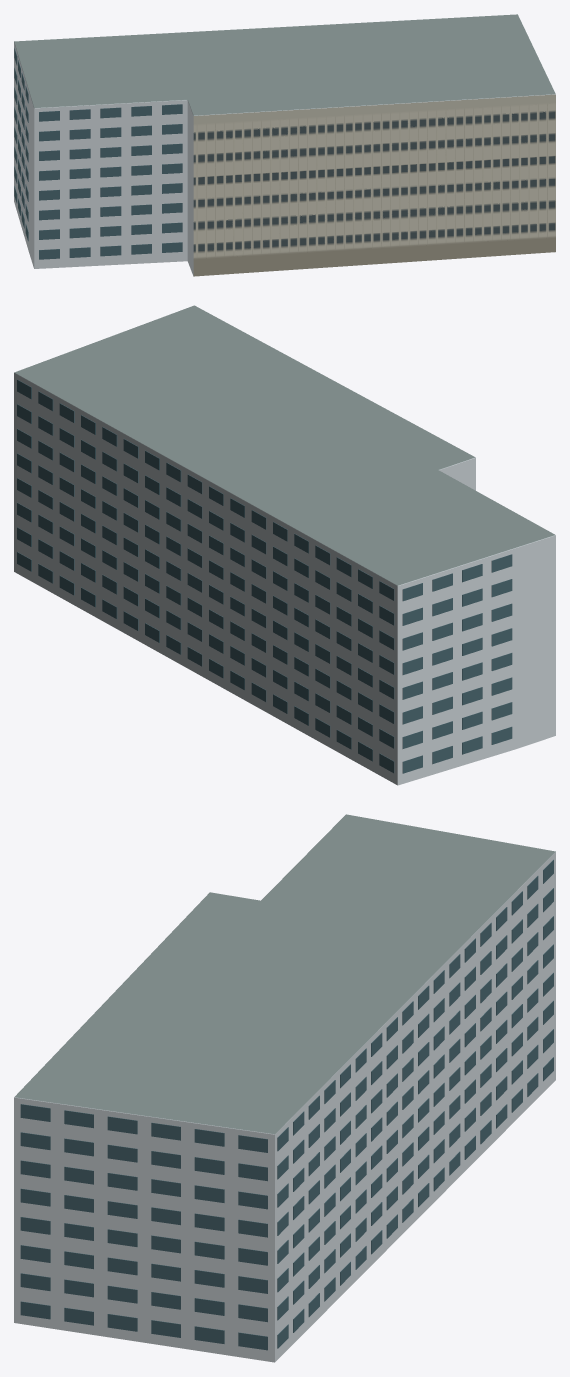
The model's file is fragments.glb.
3 renders of one model, top to bottom at view 1: azimuth 30°, elevation 25°; view 2: azimuth 150°, elevation 25°; view 3: azimuth 270°, elevation 25°, orthographic. The views are drawn at different scales.
Visible parts, largest first — view 1: SM_convergence_Fragment_001, SM_convergence_Fragment_037, SM_convergence_Fragment_030, SM_convergence_Fragment_006, SM_convergence_Fragment_010, SM_convergence_Fragment_007, SM_convergence_Fragment_028, SM_convergence_Fragment_046, SM_convergence_Fragment_045, SM_convergence_Fragment_053, SM_convergence_Fragment_055, SM_convergence_Fragment_058 (+30 smaller); view 2: SM_convergence_Fragment_019, SM_convergence_Fragment_008, SM_convergence_Fragment_042, SM_convergence_Fragment_018, SM_convergence_Fragment_020, SM_convergence_Fragment_005, SM_convergence_Fragment_041, SM_convergence_Fragment_033, SM_convergence_Fragment_026, SM_convergence_Fragment_001, SM_convergence_Fragment_051, SM_convergence_Fragment_061 (+27 smaller); view 3: SM_convergence_Fragment_015, SM_convergence_Fragment_059, SM_convergence_Fragment_048, SM_convergence_Fragment_000, SM_convergence_Fragment_020, SM_convergence_Fragment_018, SM_convergence_Fragment_013, SM_convergence_Fragment_005, SM_convergence_Fragment_003, SM_convergence_Fragment_026, SM_convergence_Fragment_008, SM_convergence_Fragment_021 (+28 smaller).
Boxes of the visible parts, x1,y1,x2,y2 form: SM_convergence_Fragment_001: (24,134,121,247); SM_convergence_Fragment_037: (434,84,526,185); SM_convergence_Fragment_030: (56,84,151,197); SM_convergence_Fragment_006: (129,193,240,276); SM_convergence_Fragment_010: (364,136,463,214); SM_convergence_Fragment_007: (421,185,524,261); SM_convergence_Fragment_028: (230,185,308,273); SM_convergence_Fragment_046: (270,130,372,196); SM_convergence_Fragment_045: (297,183,384,250); SM_convergence_Fragment_053: (131,86,192,183); SM_convergence_Fragment_055: (187,97,269,173); SM_convergence_Fragment_058: (363,79,451,143); SM_convergence_Fragment_019: (355,636,482,785); SM_convergence_Fragment_008: (336,526,486,636); SM_convergence_Fragment_042: (336,569,463,681); SM_convergence_Fragment_018: (251,508,357,643); SM_convergence_Fragment_020: (123,425,215,556); SM_convergence_Fragment_005: (198,470,317,585); SM_convergence_Fragment_041: (444,514,555,625); SM_convergence_Fragment_033: (174,517,258,657); SM_convergence_Fragment_026: (74,386,184,488); SM_convergence_Fragment_001: (479,595,555,709); SM_convergence_Fragment_051: (123,524,194,662); SM_convergence_Fragment_061: (14,440,82,572); SM_convergence_Fragment_015: (140,1098,292,1272); SM_convergence_Fragment_059: (87,1232,247,1350); SM_convergence_Fragment_048: (14,1152,124,1272); SM_convergence_Fragment_000: (67,1049,204,1171); SM_convergence_Fragment_020: (297,994,413,1134); SM_convergence_Fragment_018: (419,896,515,1063); SM_convergence_Fragment_013: (300,865,461,931); SM_convergence_Fragment_005: (367,930,471,1050); SM_convergence_Fragment_003: (194,1273,324,1362); SM_convergence_Fragment_026: (231,1032,366,1146); SM_convergence_Fragment_008: (390,830,538,915); SM_convergence_Fragment_021: (154,994,300,1063).
Size of the model in its own units: 2.2 by 0.7398 by 1.57.
Materials: 5 (1 with a texture image).
